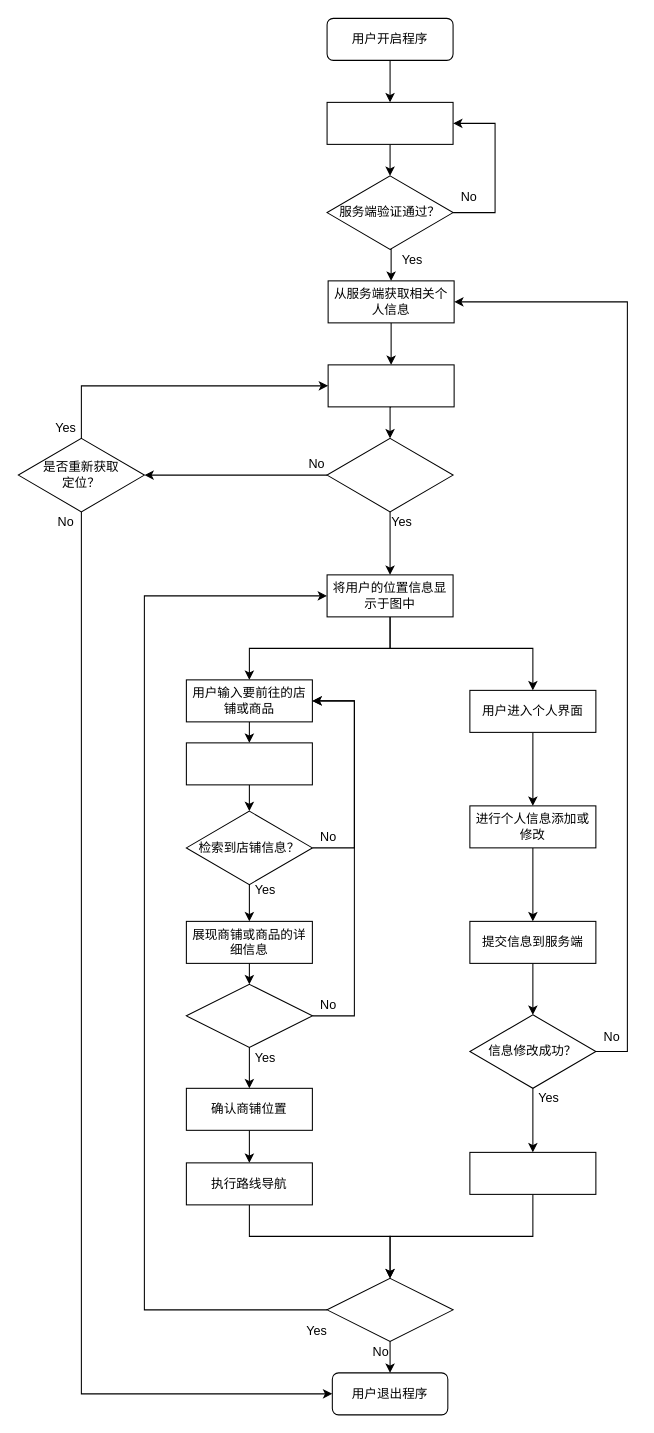
The diagram is 654 pixels wide and 1433 high, and some of its shapes have lost their labels. Here are the shapes that lost their labels. From the top down, the centre of each, then its label:
point (389, 122): 用户登陆或注册
point (390, 385): 向服务端发送位置信息获取定位
point (389, 474): 定位成功？
point (248, 763): 服务端检索店铺信息
point (248, 1015): 是否前往商品 所在位置？
point (532, 1172): 从服务端获取更新后的个人信息
point (389, 1309): 是否进行 其他服务？
